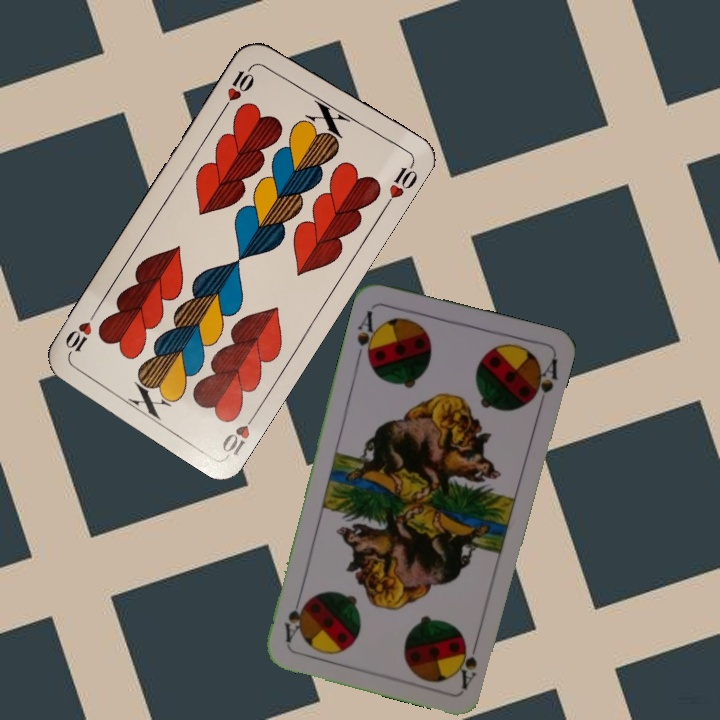H10: (218, 406, 261, 459), (219, 60, 259, 112)
SA: (352, 306, 382, 365), (454, 633, 482, 691)
